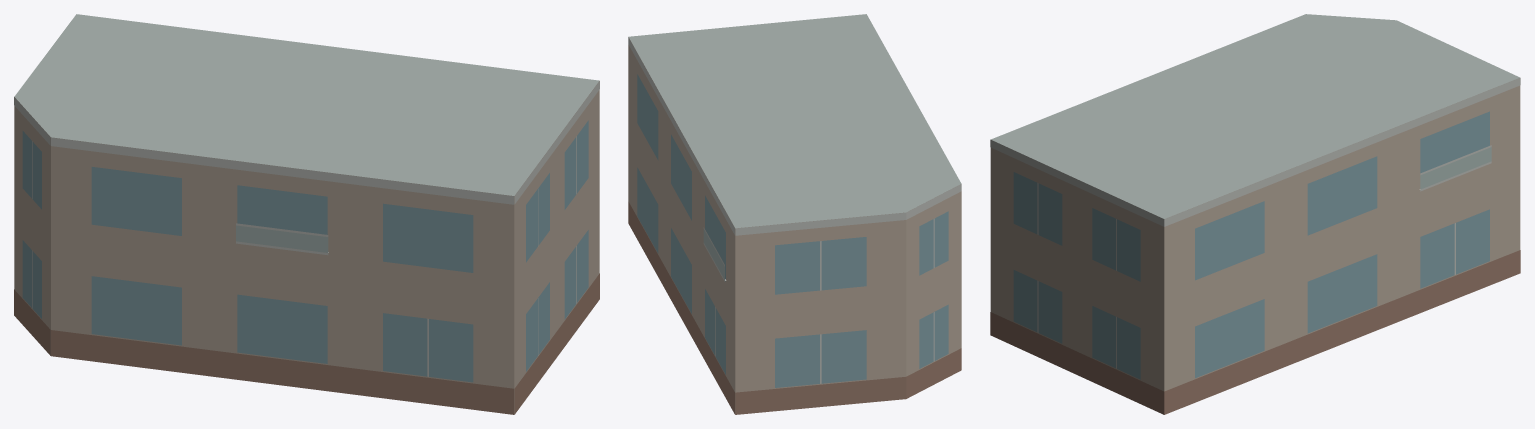
File: survey-upis-32888201.glb
3 renders of one model, left to right at view 1: azimuth 30°, elevation 25°; view 2: azimuth 150°, elevation 25°; view 3: azimuth 270°, elevation 25°, orthographic. The views are drawn at different scales.
Visible parts, largest first — view 1: survey-upis-32888201.tmp; view 2: survey-upis-32888201.tmp; view 3: survey-upis-32888201.tmp.
Boxes of the visible parts, x1,y1,x2,y2 form: survey-upis-32888201.tmp: (14,14,599,414); survey-upis-32888201.tmp: (628,14,961,414); survey-upis-32888201.tmp: (990,14,1520,414).
Size of the model in its own units: 13.72 by 6.1 by 14.97.
